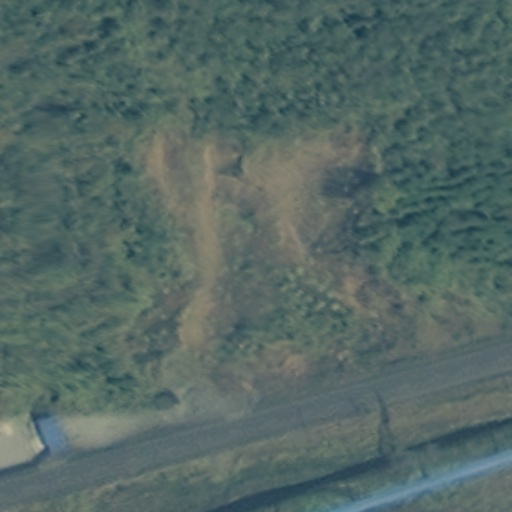landslide: (152, 127, 370, 349)
